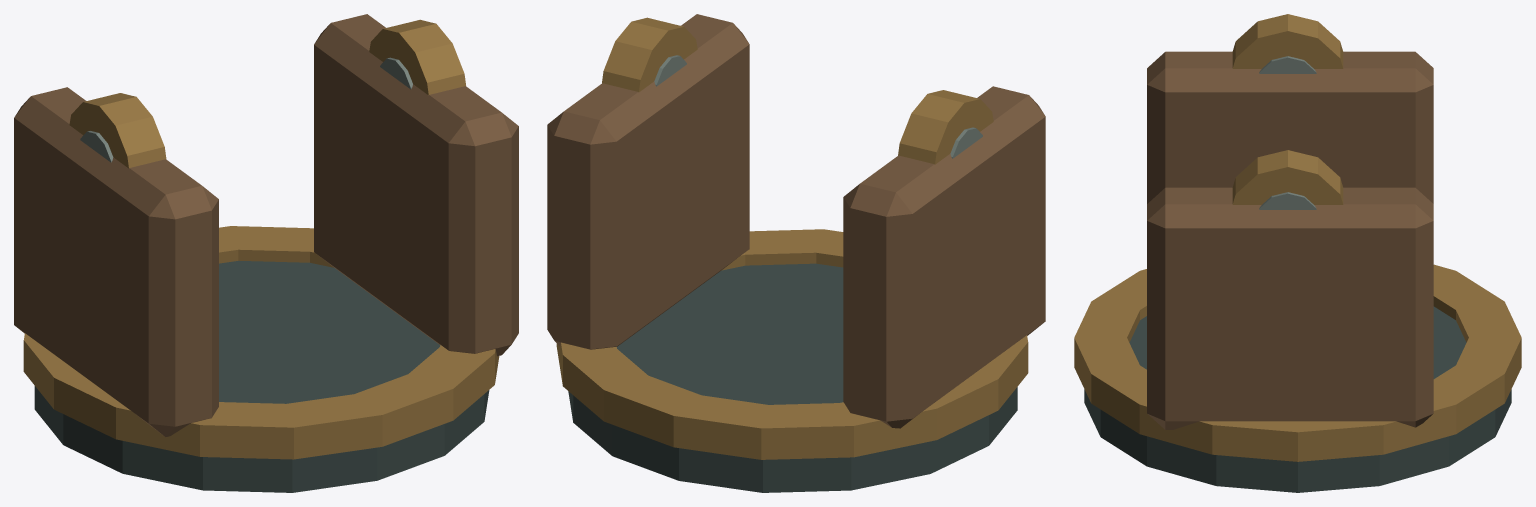
The model's file is gun_mount_2.glb.
3 views of the same model, side by side, from view 1: azimuth 30°, elevation 25°; view 2: azimuth 150°, elevation 25°; view 3: azimuth 270°, elevation 25° (orthographic). The views are drawn at different scales.
Visible parts, largest first — view 1: Timber, Metal; view 2: Timber, Metal; view 3: Timber, Metal.
Boxes of the visible parts, box(x1,y1,x2,y2) form: Timber: box(14, 14, 518, 436); Metal: box(23, 19, 499, 492); Timber: box(547, 14, 1045, 428); Metal: box(556, 17, 1028, 492); Timber: box(1147, 51, 1433, 429); Metal: box(1074, 14, 1521, 492).
Size of the model in its own units: 1.78 by 1.37 by 1.78.
